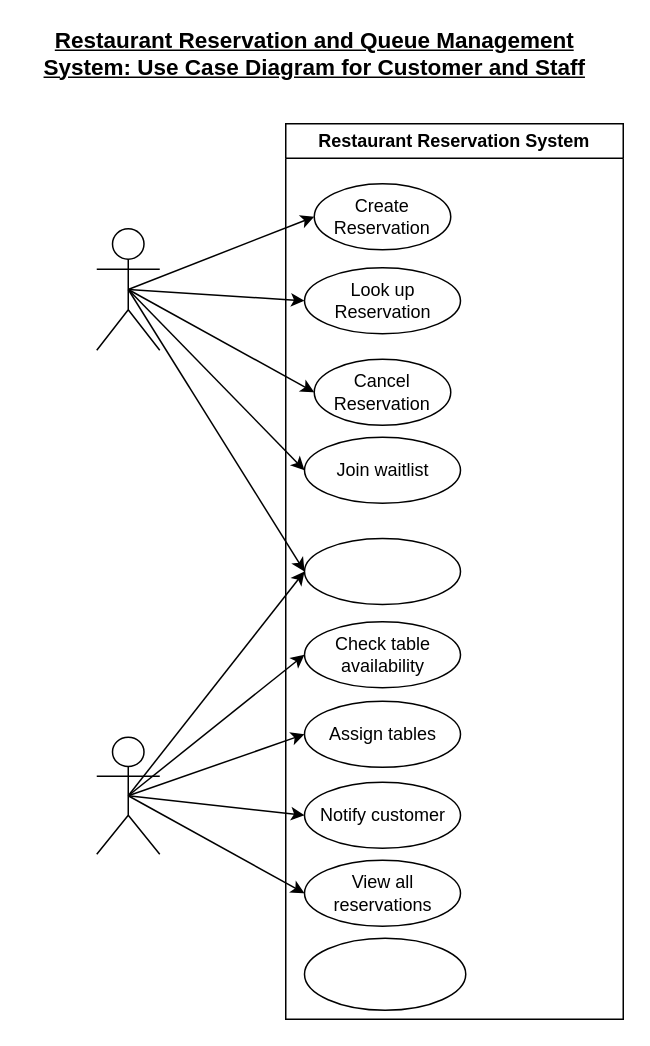
This 650x1046 diagram has some shape labels left out. Each missing label, with the centre of its shape:
Adjust customer statuses: (x=384, y=973)
Check waitlist: (x=381, y=570)
Customer: (x=127, y=288)
Restaurant Staff: (x=127, y=795)
